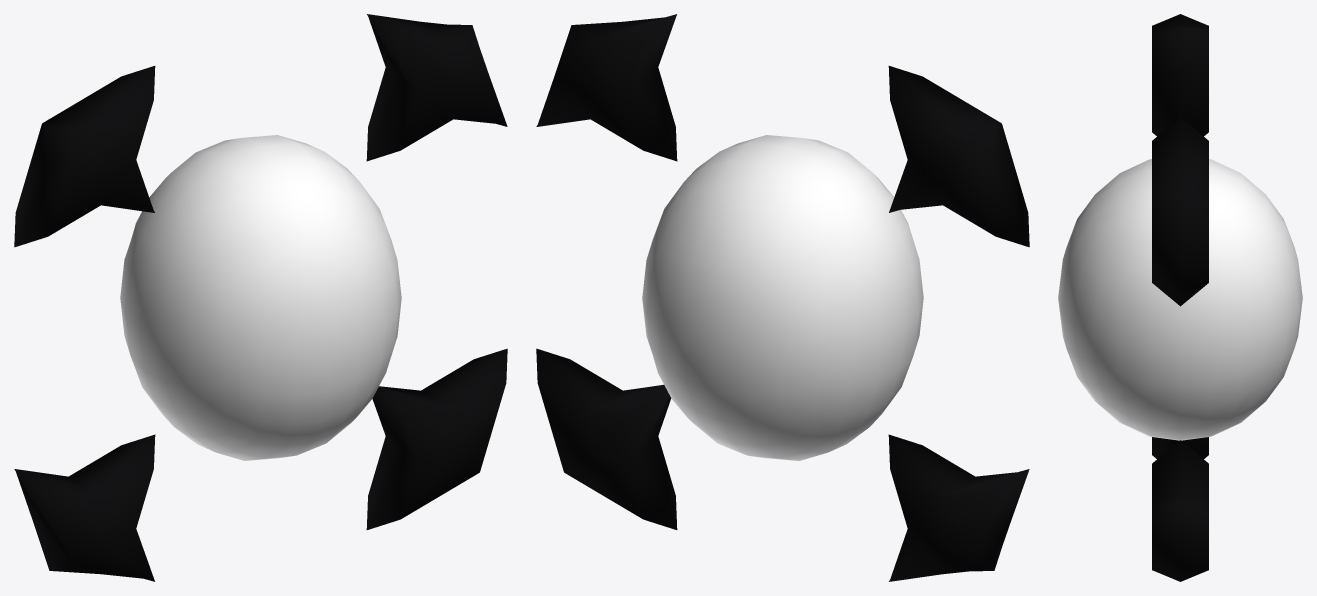
The model's file is unformed_relic.glb.
3 renders of one model, left to right at view 1: azimuth 30°, elevation 25°; view 2: azimuth 150°, elevation 25°; view 3: azimuth 270°, elevation 25°, orthographic. The views are drawn at different scales.
Visible parts, largest first — view 1: Unformed; view 2: Unformed; view 3: Unformed.
Boxes of the visible parts, bbox=[...] form: Unformed: bbox=[14, 14, 507, 581]; Unformed: bbox=[536, 14, 1029, 581]; Unformed: bbox=[1058, 14, 1302, 581].
Bounding box in the file's own units: 0.84 × 0.84 × 0.4123.
1 material, 1 textured.
